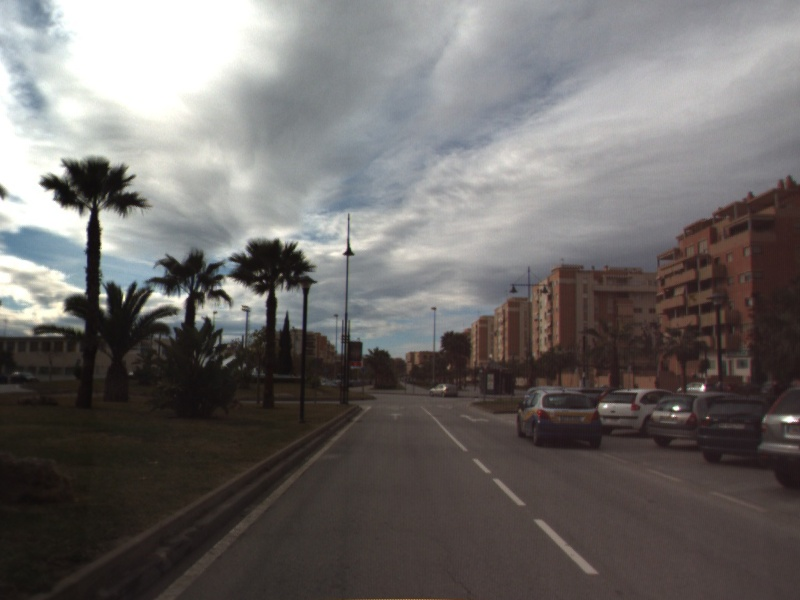STRAIGHT: (387, 411, 403, 421)
STRAIGHT_RIGHT: (458, 412, 491, 424)
